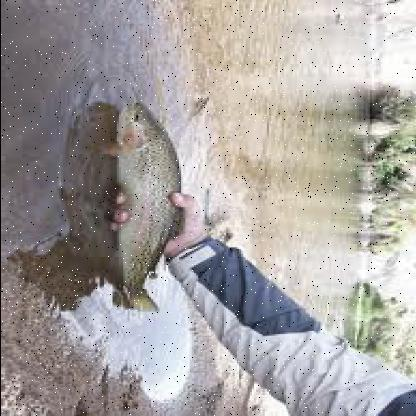fish: (106, 100, 186, 312)
